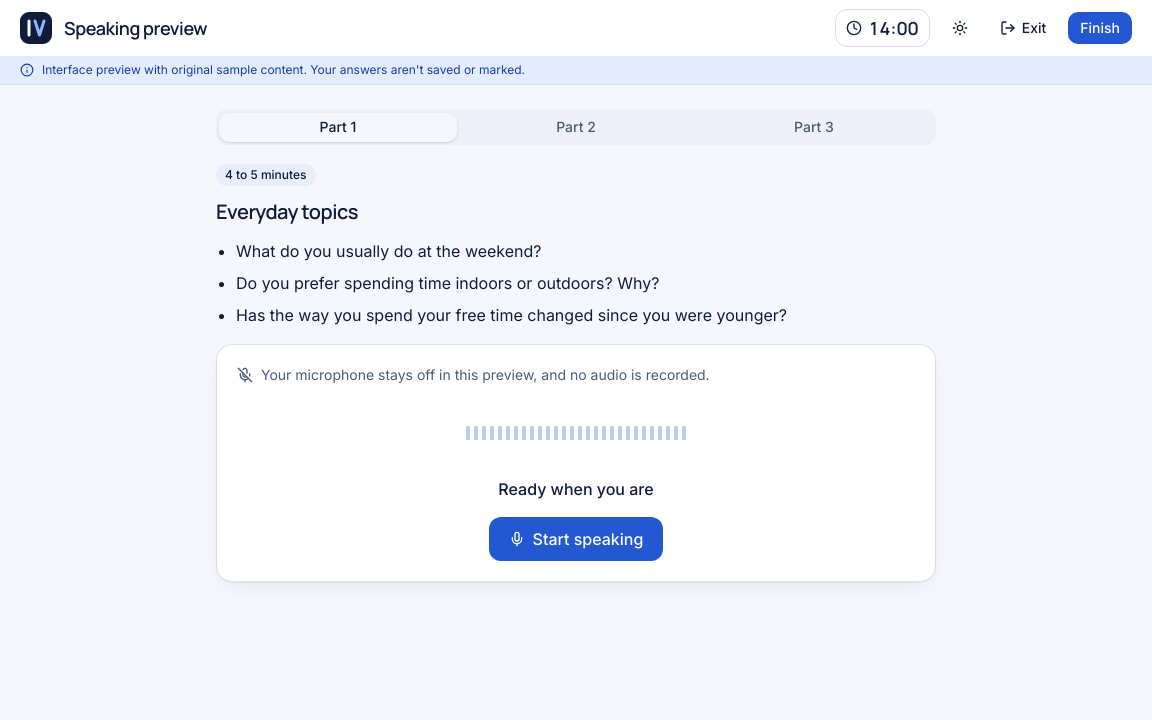
Test: exam previews › walks through recording without touching the microphone
Expected: the text "no audio is recorded" is shown, [261, 366, 710, 383]
Click the button "Start speaking" at (576, 539), box [489, 517, 663, 561]
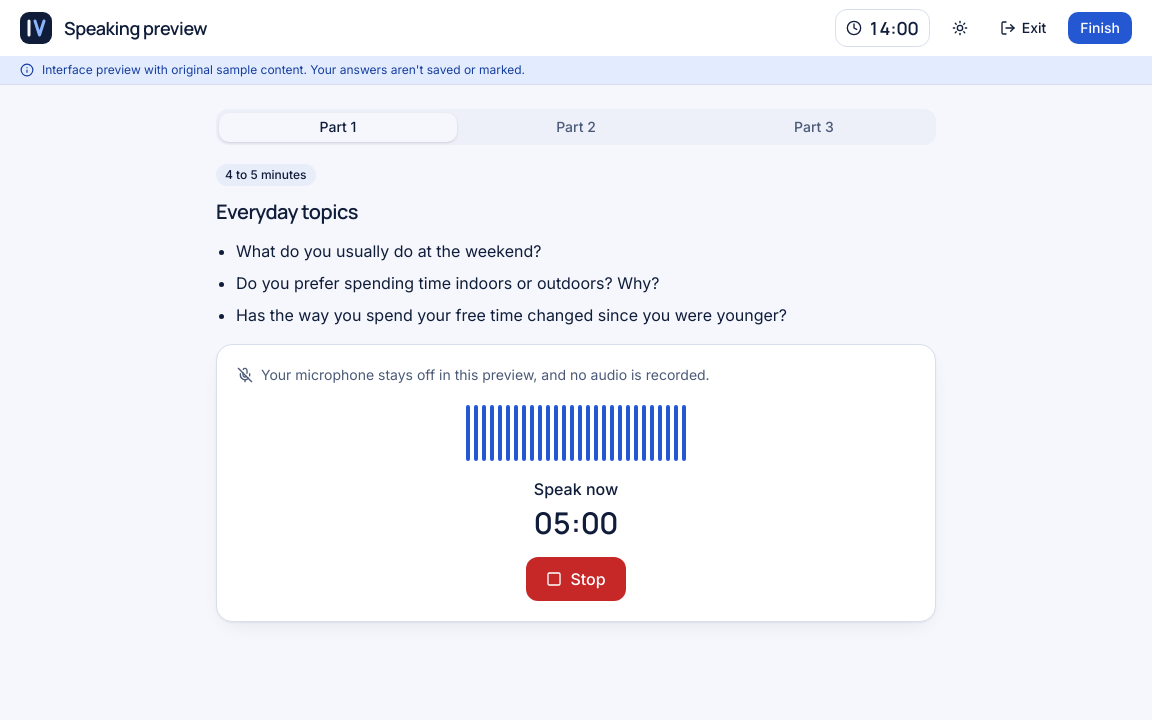
Now the text "Speak now" is shown, box [534, 479, 618, 499]
Click the button "Stop" at (576, 579), box [526, 557, 626, 601]
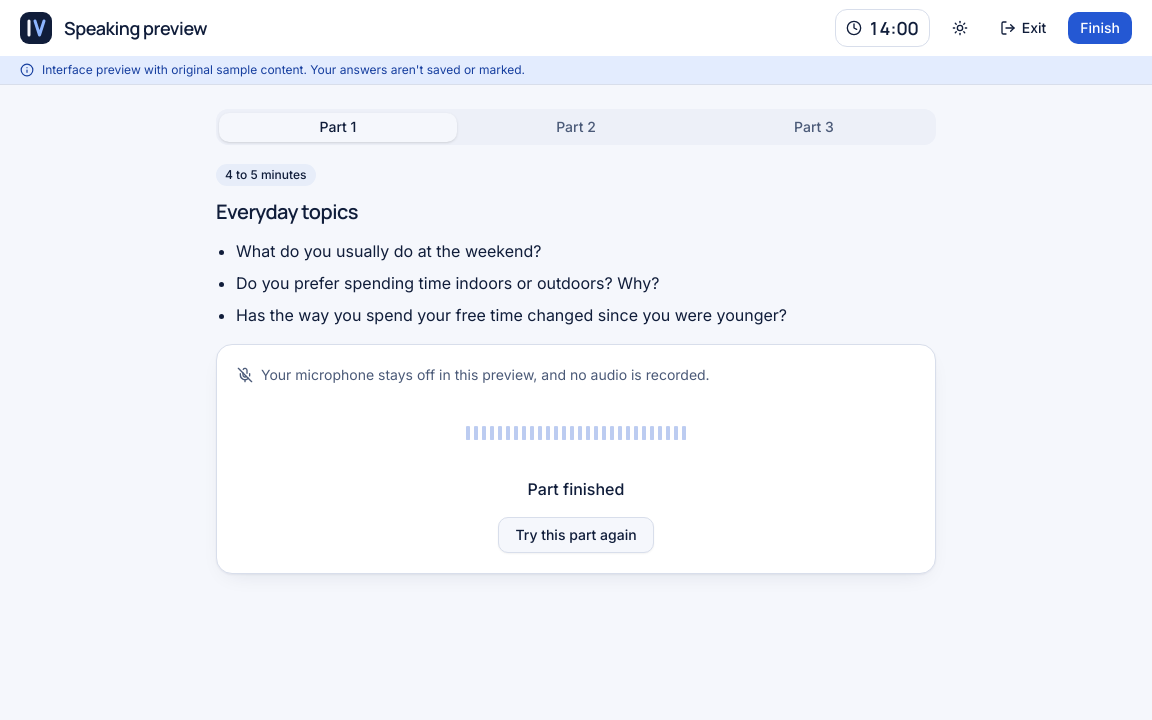
Now the text "Part finished" is shown, box [528, 479, 624, 499]
